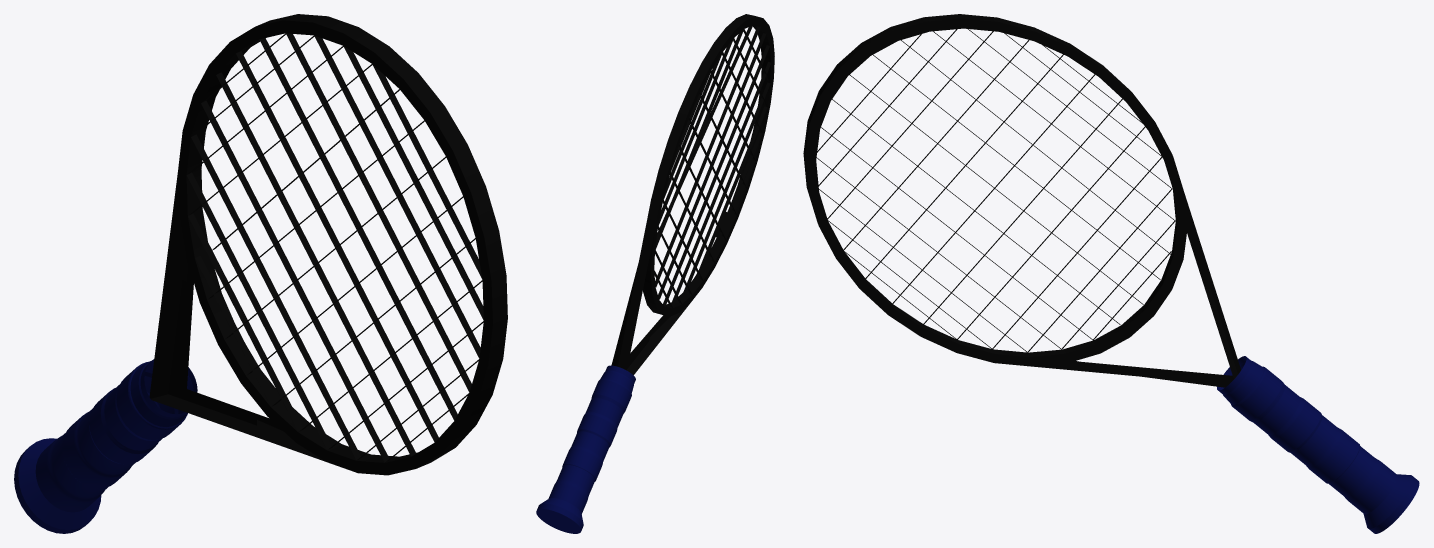
The model's file is racket.gltf.
3 renders of one model, left to right at view 1: azimuth 30°, elevation 25°; view 2: azimuth 150°, elevation 25°; view 3: azimuth 270°, elevation 25°, orthographic. The views are drawn at different scales.
Visible parts, largest first — view 1: Cilindro_2; view 2: Cilindro_2; view 3: Cilindro_2.
Boxes of the visible parts, left/top/right/bottom form: Cilindro_2: left=14, top=14, right=507, bottom=533; Cilindro_2: left=536, top=14, right=774, bottom=533; Cilindro_2: left=803, top=14, right=1419, bottom=533.
Bounding box in the file's own units: 0.4238 × 3.4 × 3.72.
